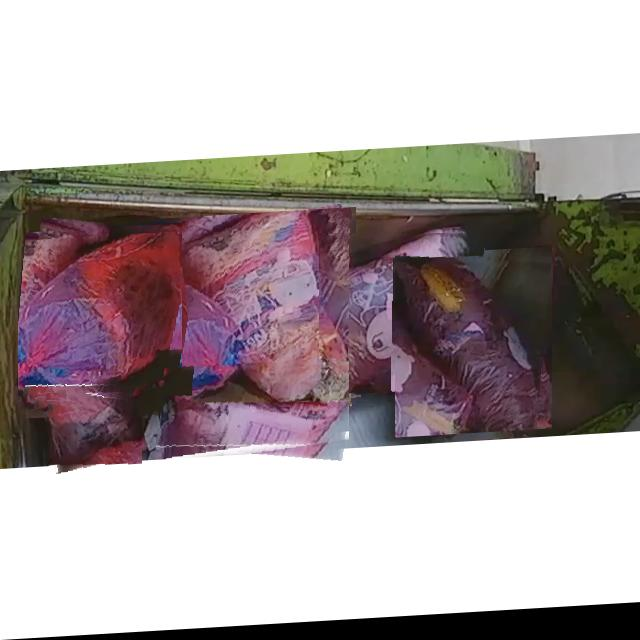other_trashbag: (18, 232, 242, 405), (183, 215, 356, 405), (320, 238, 483, 398), (396, 264, 542, 437), (166, 370, 349, 452), (48, 394, 141, 473)
